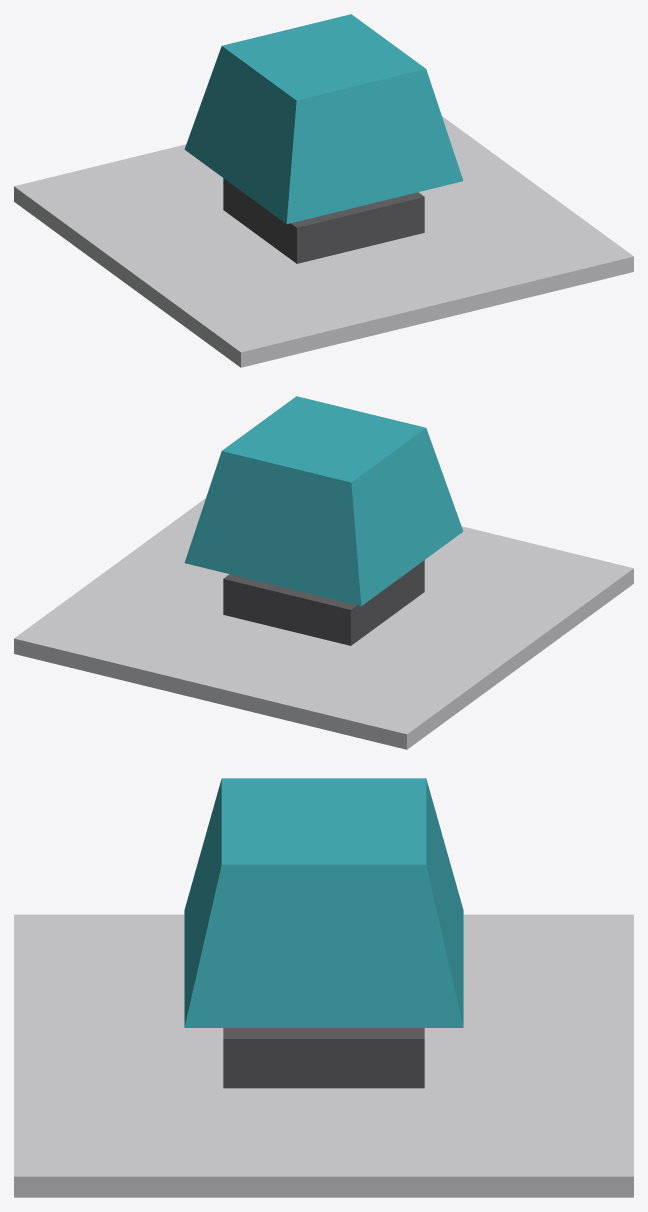
The model's file is tecla.glb.
3 views of the same model, one above another, from view 1: azimuth 30°, elevation 25°; view 2: azimuth 150°, elevation 25°; view 3: azimuth 270°, elevation 25° (orthographic). The views are drawn at different scales.
Parts seen in each view (by area): view 1: Placa, Keycap, SwitchBase; view 2: Placa, Keycap, SwitchBase; view 3: Placa, Keycap, SwitchBase.
Part boxes in pixels (box(x1,y1,x2,y2)): Placa: box(14, 116, 633, 367); Keycap: box(184, 14, 463, 224); SwitchBase: box(223, 178, 424, 263); Placa: box(14, 498, 633, 749); Keycap: box(184, 396, 463, 606); SwitchBase: box(223, 560, 424, 645); Placa: box(14, 914, 633, 1197); Keycap: box(184, 778, 463, 1027); SwitchBase: box(223, 1028, 424, 1088).
Size of what is drawn, in the model's own units: 4 by 1.74 by 4.
